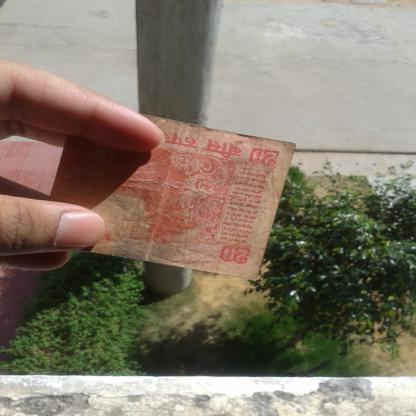Old20Back: (50, 116, 283, 265)
